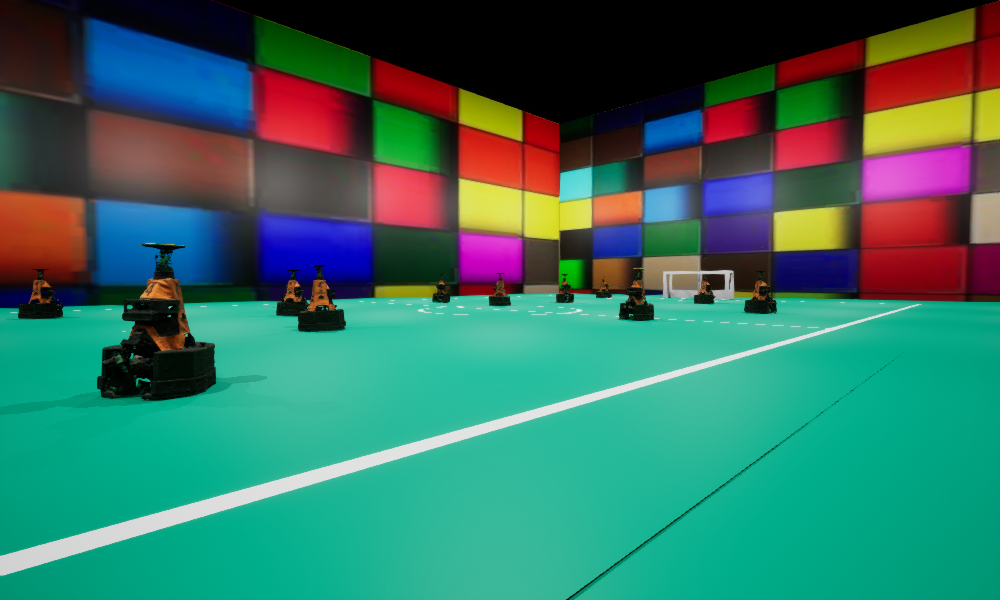o: (97, 243, 215, 398), (298, 265, 345, 331), (18, 269, 63, 318), (619, 268, 653, 319), (276, 270, 309, 315), (744, 271, 776, 313), (489, 273, 510, 305), (281, 273, 305, 301), (694, 274, 715, 303), (556, 274, 573, 302), (432, 274, 449, 301), (596, 276, 611, 297)
